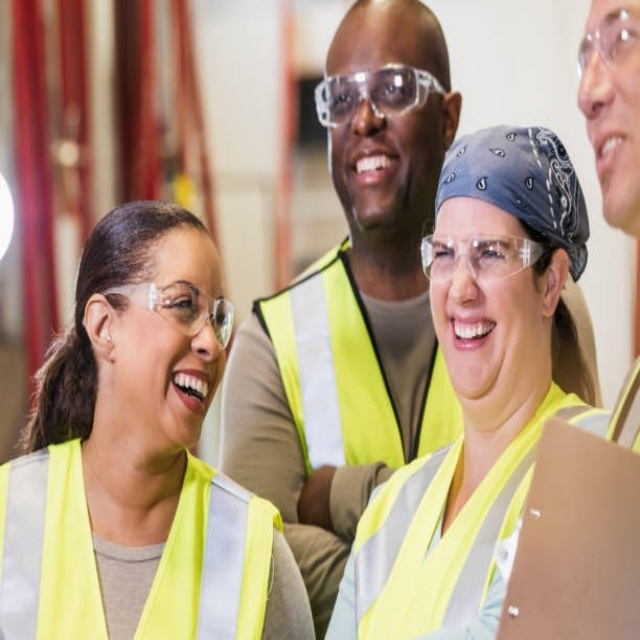Gafas: (94, 281, 235, 349), (315, 66, 446, 128), (419, 233, 543, 283), (576, 10, 640, 82)
Sin_mascara: (154, 363, 220, 435), (588, 116, 634, 202), (447, 304, 502, 375), (341, 139, 397, 199)
